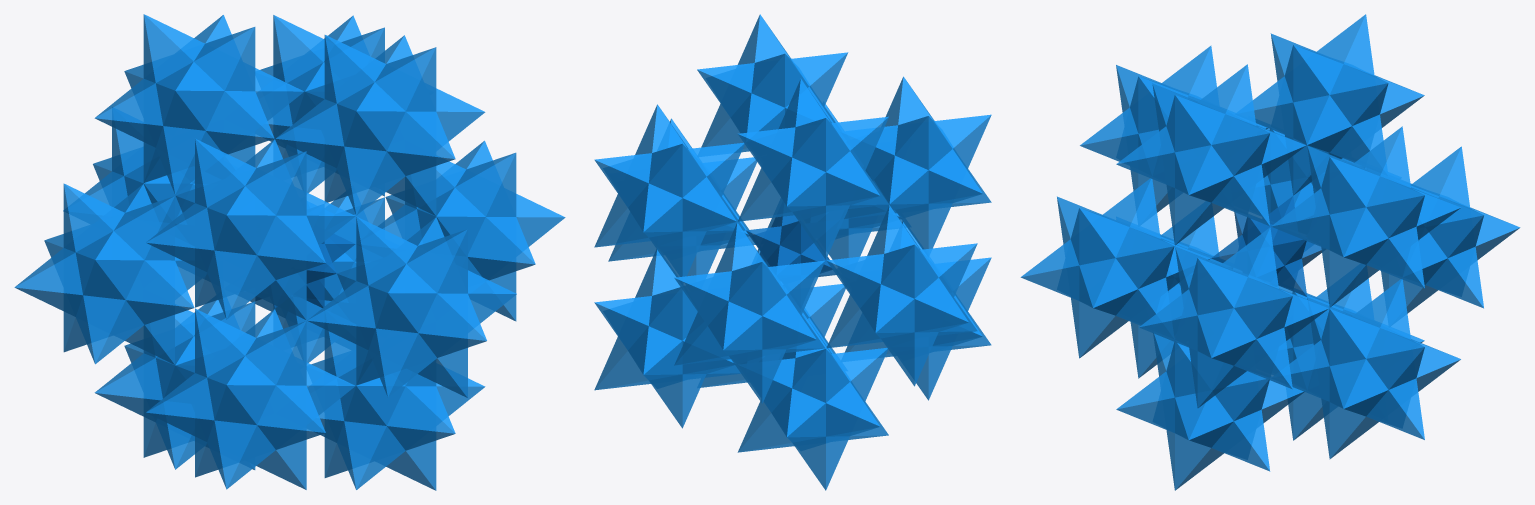
File: fractalsmallstellateddodecahedron1.glb
3 views of the same model, side by side, from view 1: azimuth 30°, elevation 25°; view 2: azimuth 150°, elevation 25°; view 3: azimuth 270°, elevation 25° (orthographic). The views are drawn at different scales.
Size of the model in its own units: 12.01 by 10.49 by 12.01.
